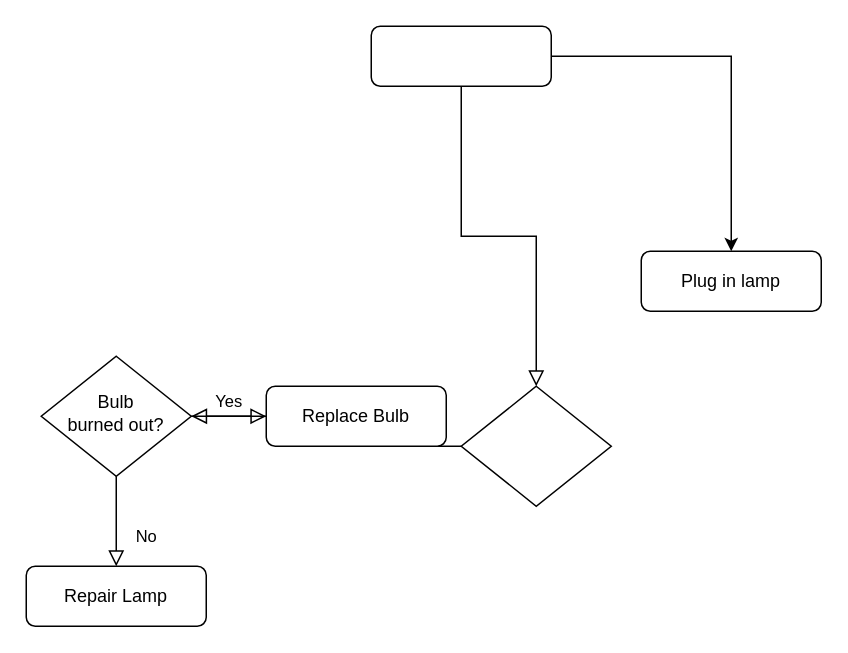
The diagram is 848 pixels wide and 653 high, and some of its shapes have lost their labels. Here are the shapes that lost their labels. From the top down, the centre of each, then its label:
the point at 460,55: IsSignedIn
the point at 535,445: Lamp plugged in?
